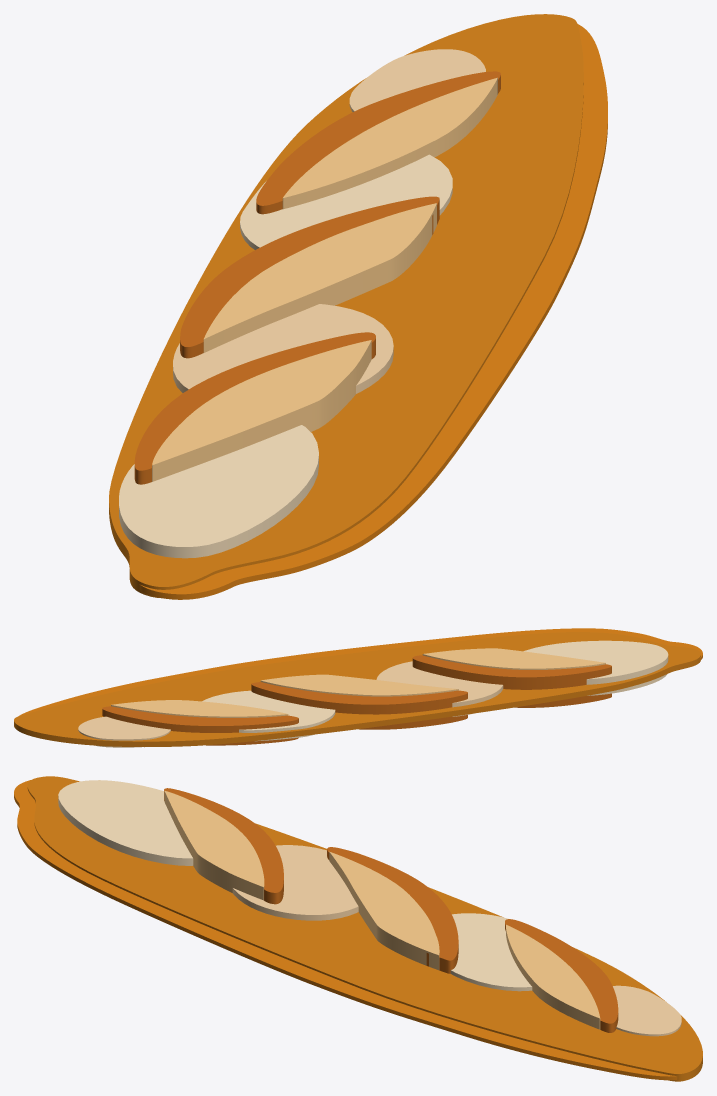
File: emoji_u1f956.glb
3 views of the same model, one above another, from view 1: azimuth 30°, elevation 25°; view 2: azimuth 150°, elevation 25°; view 3: azimuth 270°, elevation 25° (orthographic). The views are drawn at different scales.
Visible parts, largest first — view 1: emoji_u1f956; view 2: emoji_u1f956; view 3: emoji_u1f956.
Part boxes in pixels (box(x1,y1,x2,y2)): emoji_u1f956: box(109, 14, 607, 599); emoji_u1f956: box(14, 628, 702, 747); emoji_u1f956: box(14, 776, 702, 1081).
Bounding box in the file's own units: 0.034 × 0.0024 × 0.0332.
